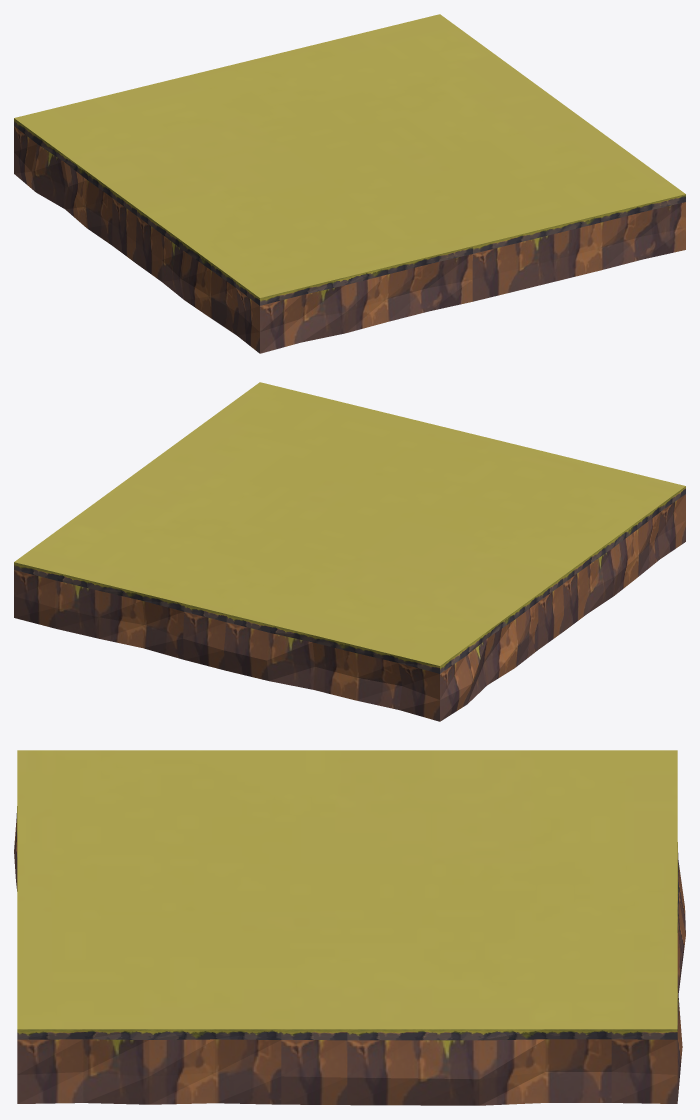
File: SM_RC_Terrain_Plateau_16x16x2.gltf
The picture shows the model from 3 angles, top to bottom: view 1: azimuth 30°, elevation 25°; view 2: azimuth 150°, elevation 25°; view 3: azimuth 270°, elevation 25°; orthographic projection. The views are drawn at different scales.
Visible parts, largest first — view 1: SM_RC_Terrain_Plateau_16x16x2; view 2: SM_RC_Terrain_Plateau_16x16x2; view 3: SM_RC_Terrain_Plateau_16x16x2.
Boxes of the visible parts, x1=… form: SM_RC_Terrain_Plateau_16x16x2: x1=14, y1=14, x2=685, y2=353; SM_RC_Terrain_Plateau_16x16x2: x1=14, y1=382, x2=685, y2=721; SM_RC_Terrain_Plateau_16x16x2: x1=14, y1=750, x2=685, y2=1105.
Bounding box in the file's own units: 16.51 × 2 × 16.28.
1 material, 1 textured.
